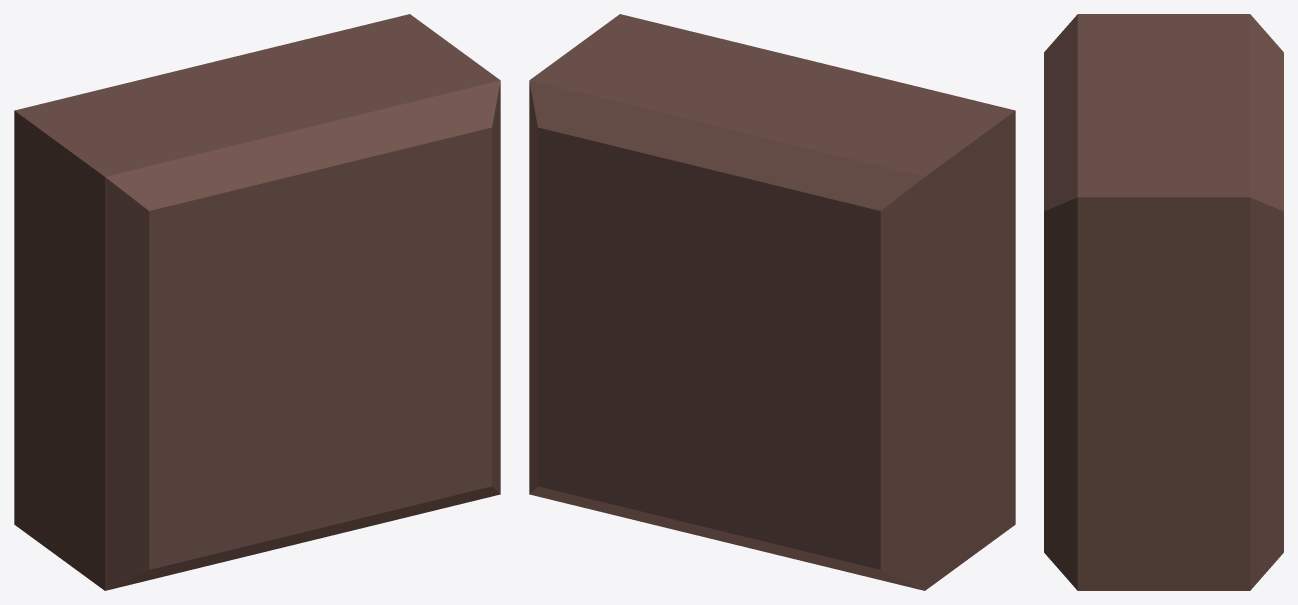
The model's file is sofa_pellow.fbx.
The picture shows the model from 3 angles, left to right: view 1: azimuth 30°, elevation 25°; view 2: azimuth 150°, elevation 25°; view 3: azimuth 270°, elevation 25°; orthographic projection. The views are drawn at different scales.
Visible parts, largest first — view 1: pCube7; view 2: pCube7; view 3: pCube7.
Boxes of the visible parts, box(x1,y1,x2,y2) form: pCube7: box(14, 14, 500, 590); pCube7: box(529, 14, 1015, 590); pCube7: box(1044, 14, 1283, 590).
Size of the model in its own units: 0.5923 by 0.5923 by 0.3274.
